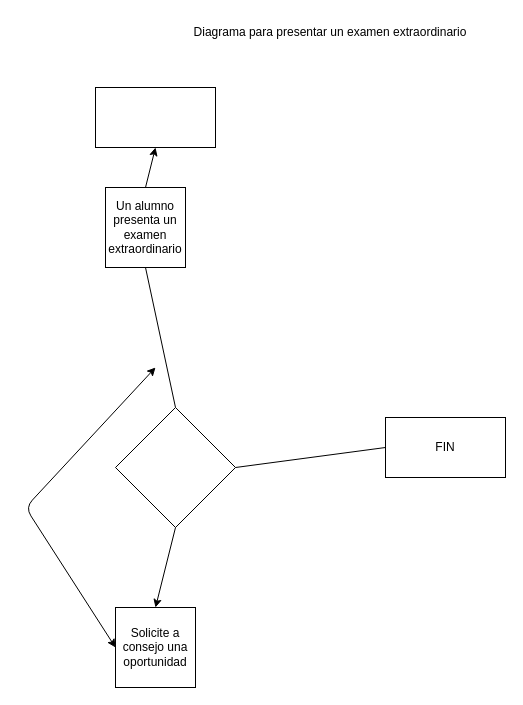
This 523x705 diagram has some shape labels left out. Each missing label, with the centre of its shape:
"Calificacion mayor a 70" goes at [175,467].
"Inicio" goes at [155,117].
